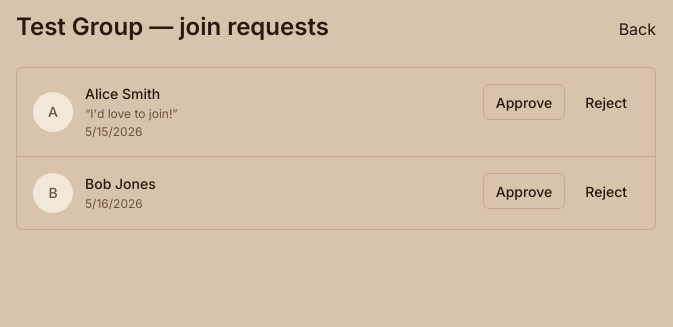
Test: JoinRequestsPage › shows at-cap error when approve returns group_at_cap
Click the button with test id "approve-user-a".
click(524, 102)  # box [483,84,565,120]
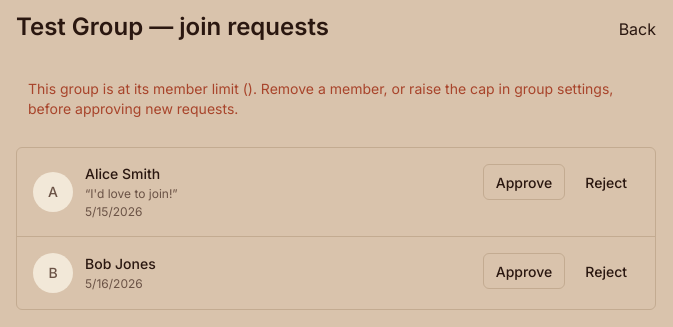
Result: the message with test id "at-cap-error" is shown at [28,80,613,117]
Result: the message with test id "at-cap-error" shows "member limit" at [28,80,248,97]
